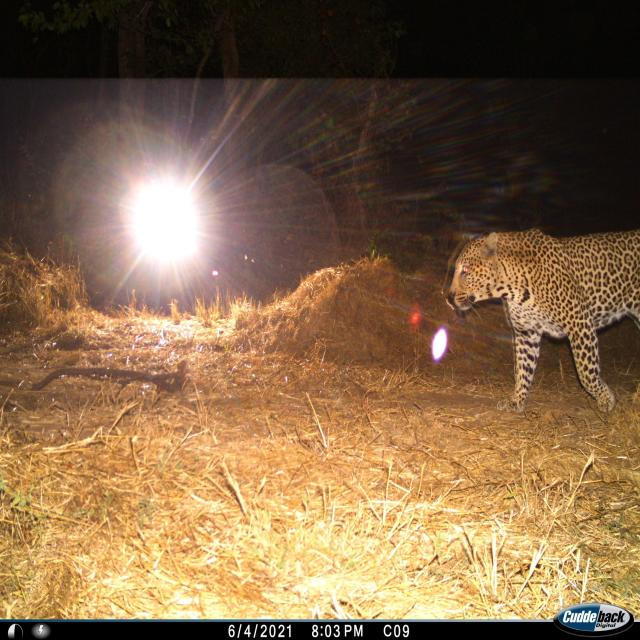Leopard: (437, 226, 639, 423)
